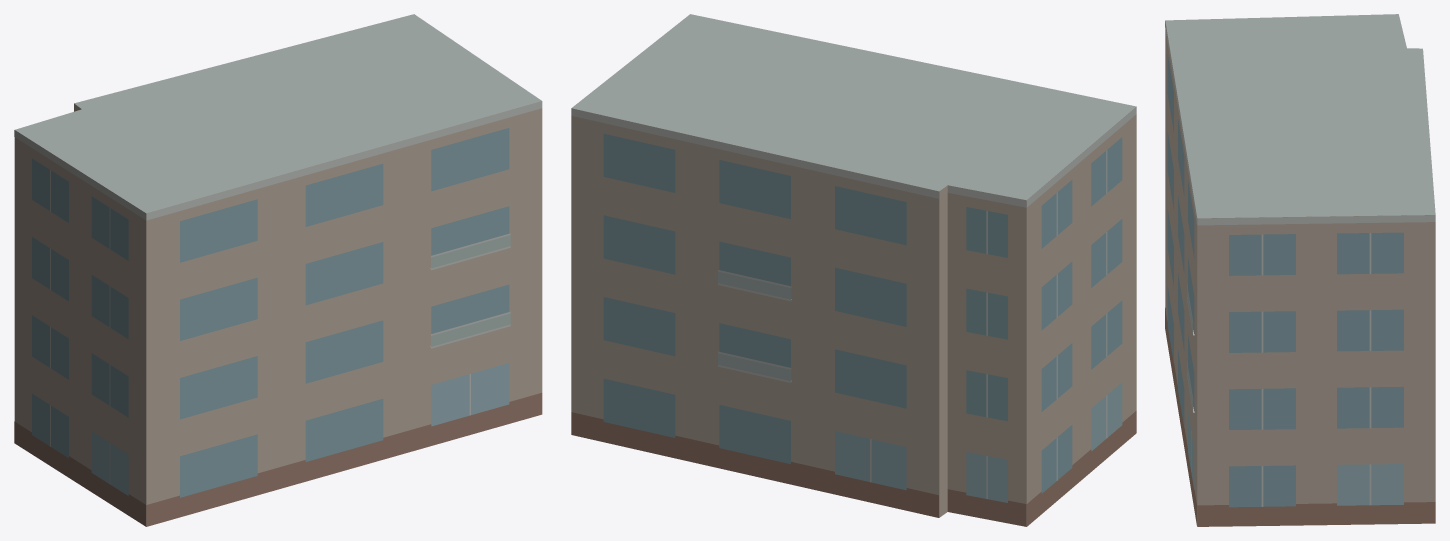
The model's file is survey-upis-32848645.glb.
3 views of the same model, side by side, from view 1: azimuth 30°, elevation 25°; view 2: azimuth 150°, elevation 25°; view 3: azimuth 270°, elevation 25° (orthographic). The views are drawn at different scales.
Parts seen in each view (by area): view 1: survey-upis-32848645.tmp; view 2: survey-upis-32848645.tmp; view 3: survey-upis-32848645.tmp.
Boxes of the visible parts, x1,y1,x2,y2 form: survey-upis-32848645.tmp: [14, 14, 542, 526]; survey-upis-32848645.tmp: [571, 14, 1136, 526]; survey-upis-32848645.tmp: [1165, 14, 1435, 526].
Bounding box in the file's own units: 15.13 × 10.65 × 8.47.
